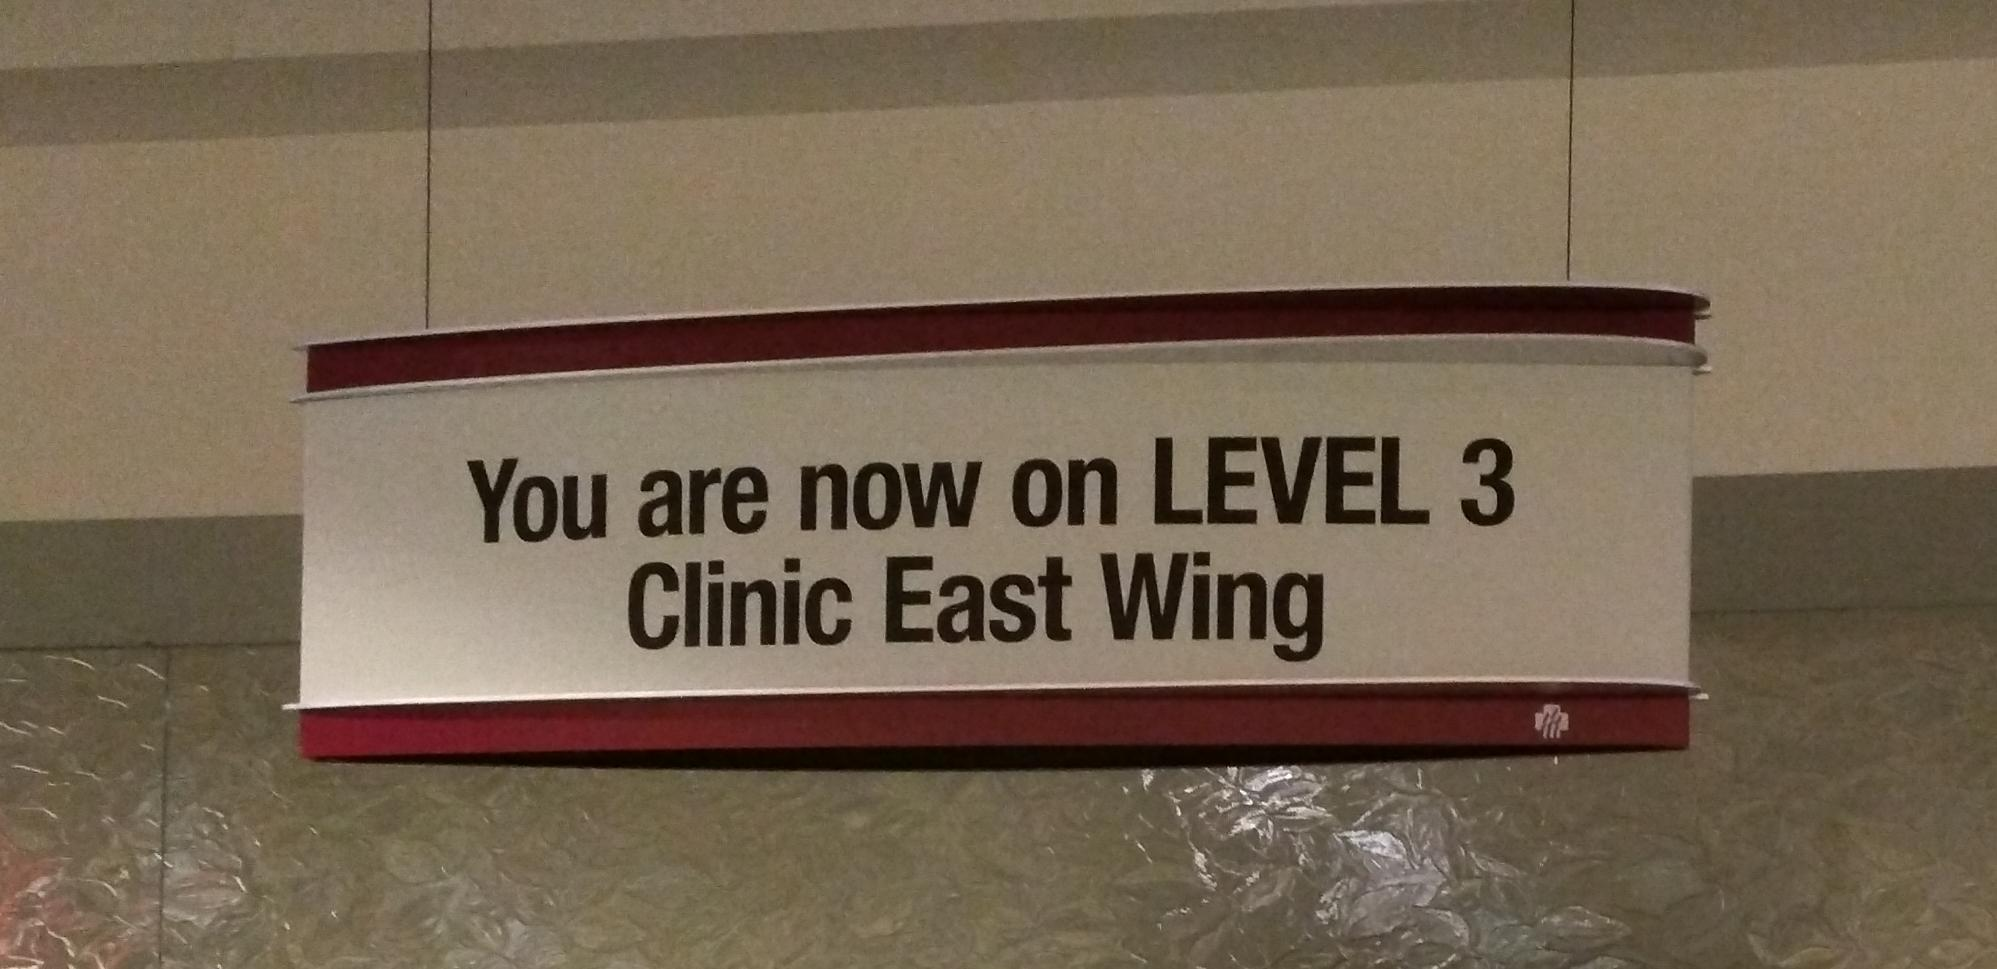sign: (273, 278, 1714, 772)
